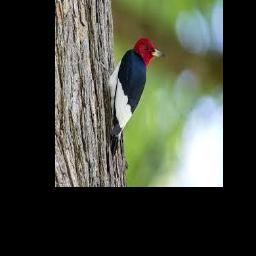Woodpecker: (100, 37, 165, 157)
